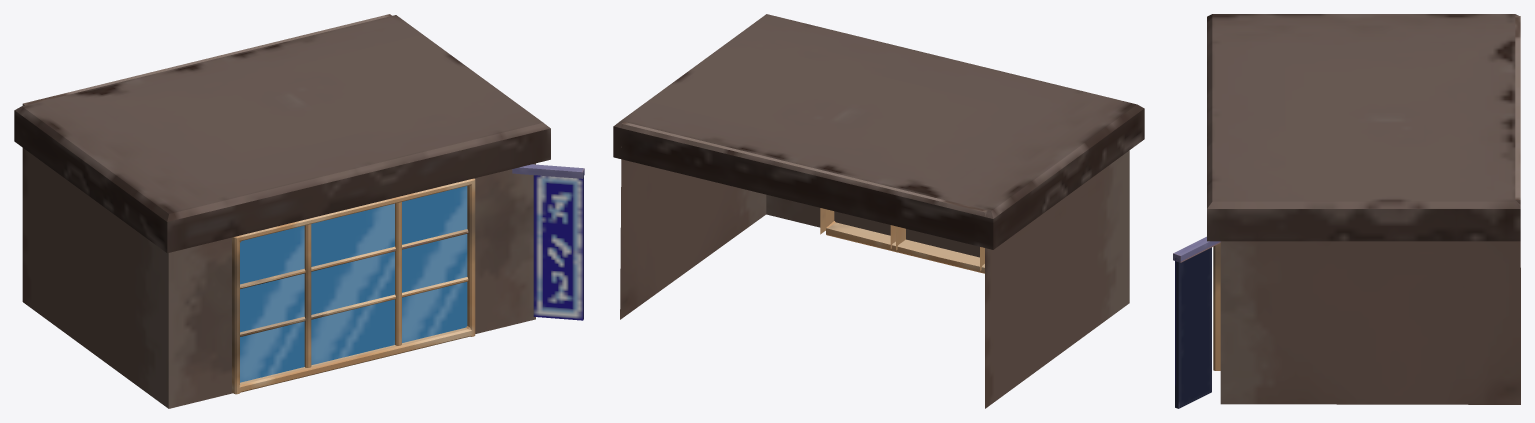
The model's file is bld-2.fbx.
3 renders of one model, left to right at view 1: azimuth 30°, elevation 25°; view 2: azimuth 150°, elevation 25°; view 3: azimuth 270°, elevation 25°, orthographic. The views are drawn at different scales.
Parts seen in each view (by area): view 1: bld2-top, bld2-wall, bld2-window, sign; view 2: bld2-top, bld2-wall, bld2-window; view 3: bld2-top, bld2-wall, sign, bld2-window.
Part boxes in pixels (box(x1,y1,x2,y2)): bld2-top: box(14, 15, 550, 253); bld2-wall: box(22, 14, 535, 408); bld2-window: box(232, 178, 475, 394); sign: box(512, 164, 584, 320); bld2-top: box(613, 14, 1144, 249); bld2-wall: box(620, 122, 1129, 408); bld2-window: box(820, 208, 984, 273); bld2-top: box(1207, 14, 1520, 241); bld2-wall: box(1220, 16, 1520, 404); sign: box(1173, 236, 1220, 408); bld2-window: box(1213, 243, 1220, 370).
Bounding box in the file's own units: 3.2 × 1.5 × 2.32.
